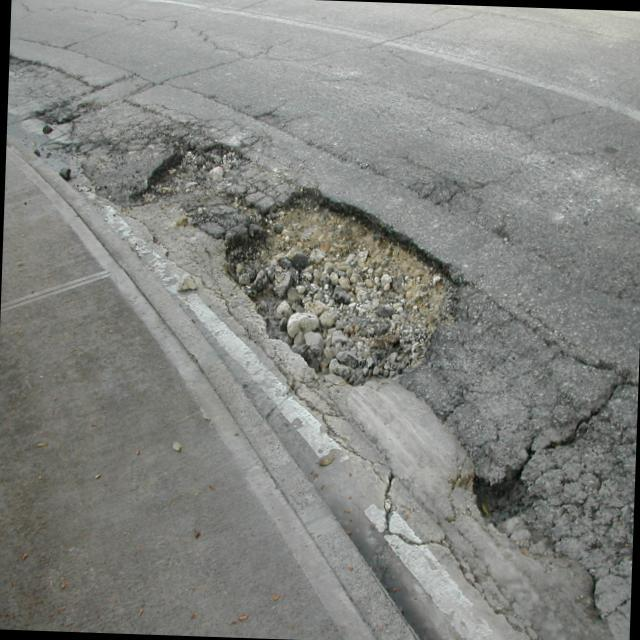Pothole: (211, 176, 463, 414), (140, 130, 237, 208), (460, 465, 536, 527), (25, 102, 83, 150)
